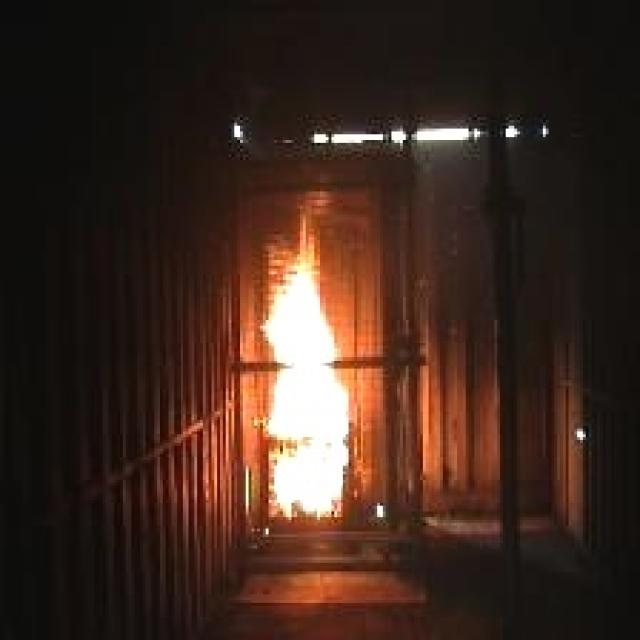fire: (237, 240, 357, 503)
